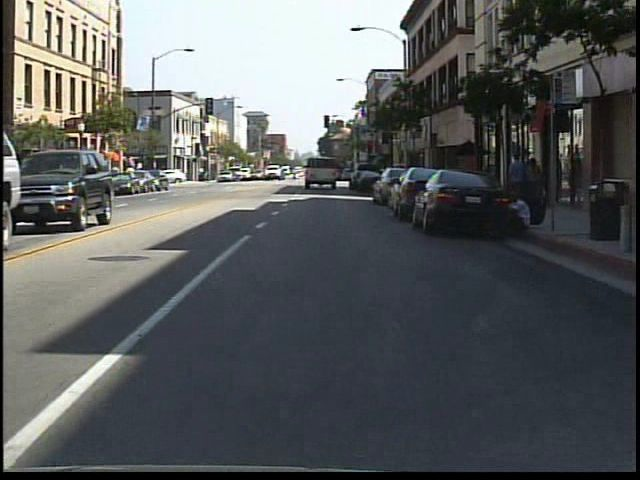person: (502, 147, 528, 215), (522, 156, 546, 214)
